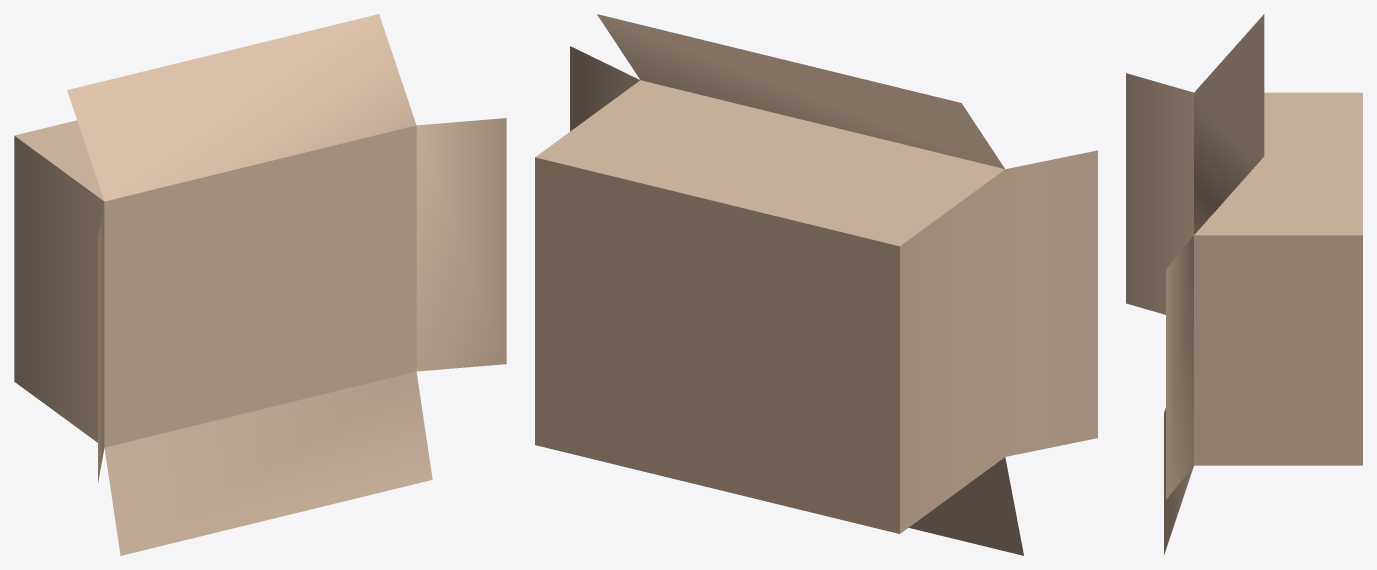
Rendered from Cardboard_3.glb.
The picture shows the model from 3 angles, left to right: view 1: azimuth 30°, elevation 25°; view 2: azimuth 150°, elevation 25°; view 3: azimuth 270°, elevation 25°; orthographic projection. The views are drawn at different scales.
Parts seen in each view (by area): view 1: Cardboard_3; view 2: Cardboard_3; view 3: Cardboard_3.
Boxes of the visible parts, x1,y1,x2,y2 form: Cardboard_3: (14, 14, 506, 555); Cardboard_3: (535, 14, 1097, 555); Cardboard_3: (1126, 14, 1362, 554).
Size of the model in its own units: 1.57 by 1.49 by 0.7988.
